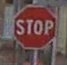stop: (11, 3, 56, 49)
